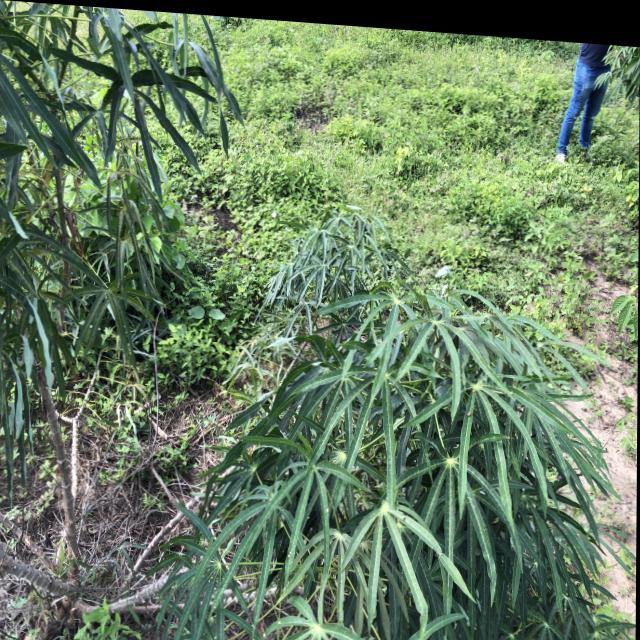Maleza: (245, 26, 484, 203), (420, 166, 639, 252), (456, 35, 556, 181)
Mosca: (328, 407, 353, 432), (80, 313, 104, 337), (117, 276, 143, 298), (459, 405, 480, 427), (467, 485, 493, 501), (188, 598, 213, 609)
